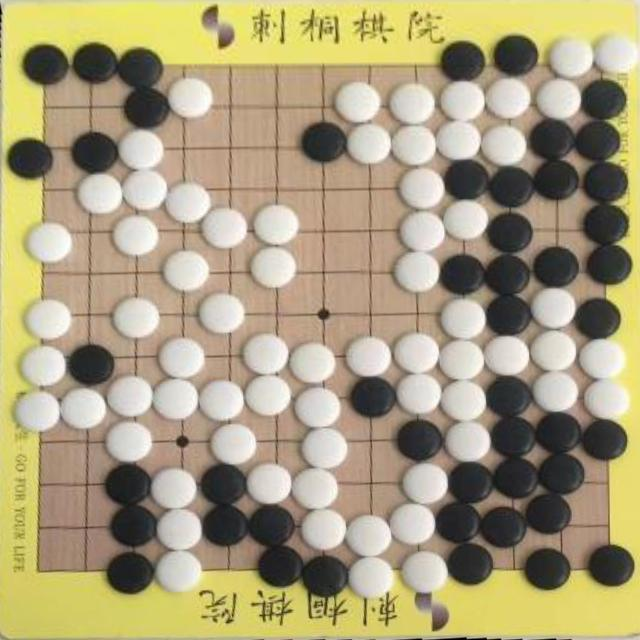blackstone: (105, 462, 152, 507), (110, 504, 158, 548), (574, 119, 622, 162), (446, 542, 494, 585), (583, 202, 629, 245), (485, 253, 531, 296), (72, 131, 119, 173), (533, 159, 580, 201), (22, 44, 69, 86), (200, 463, 247, 505), (529, 118, 576, 160), (580, 419, 627, 461), (202, 504, 249, 546), (249, 504, 296, 546), (535, 412, 582, 454), (525, 548, 572, 590), (116, 47, 164, 88), (124, 87, 170, 129), (68, 344, 114, 386), (8, 138, 54, 180), (576, 298, 622, 340), (486, 293, 532, 335), (257, 545, 303, 587), (107, 552, 153, 594), (492, 456, 538, 498), (487, 212, 534, 253), (488, 166, 535, 207), (582, 162, 627, 204), (447, 462, 492, 504), (588, 545, 633, 587), (436, 502, 481, 544), (586, 244, 632, 285), (396, 421, 442, 462), (302, 555, 348, 596), (537, 453, 583, 494), (526, 494, 572, 535), (489, 416, 536, 456), (493, 35, 538, 76), (72, 43, 118, 83), (350, 377, 396, 417), (533, 246, 579, 286), (486, 376, 532, 416), (480, 507, 526, 547), (440, 253, 484, 294), (581, 80, 626, 120), (442, 40, 486, 80), (444, 160, 488, 200), (302, 123, 346, 162)
whitestone: (107, 375, 155, 419), (390, 502, 438, 546), (155, 549, 203, 593), (210, 423, 258, 466), (25, 298, 73, 341), (245, 463, 293, 506), (440, 379, 488, 422), (156, 507, 204, 550), (292, 468, 341, 510), (294, 388, 344, 429), (199, 378, 245, 422), (121, 169, 168, 212), (77, 172, 124, 215), (153, 378, 200, 421), (396, 373, 443, 416), (401, 550, 448, 593), (244, 374, 292, 416), (289, 342, 337, 384), (106, 420, 154, 462), (300, 427, 348, 469), (345, 336, 393, 378), (150, 468, 198, 510), (402, 462, 450, 504), (300, 508, 348, 550), (393, 332, 441, 374), (345, 515, 393, 557), (334, 81, 382, 123), (532, 371, 580, 413), (530, 330, 578, 372), (348, 556, 396, 598), (391, 124, 437, 167), (199, 292, 246, 334), (113, 214, 160, 256), (165, 182, 212, 224), (243, 333, 290, 375), (61, 388, 108, 430), (159, 337, 206, 379), (26, 222, 73, 264), (481, 124, 528, 166), (21, 346, 68, 388), (444, 420, 491, 462), (535, 78, 582, 120), (112, 296, 160, 337), (400, 167, 446, 209), (15, 391, 61, 433), (531, 286, 577, 328), (163, 250, 210, 291), (394, 251, 441, 292), (253, 203, 300, 244), (436, 121, 483, 162), (118, 129, 165, 170), (578, 338, 625, 379), (440, 298, 488, 338), (347, 123, 392, 165), (251, 247, 297, 288), (389, 82, 435, 123), (439, 338, 485, 379), (486, 78, 532, 119), (484, 335, 530, 376), (440, 80, 486, 121), (399, 211, 446, 251), (442, 200, 489, 240), (168, 78, 213, 119), (583, 380, 629, 420), (202, 207, 247, 247), (549, 38, 593, 77), (594, 34, 638, 72)
